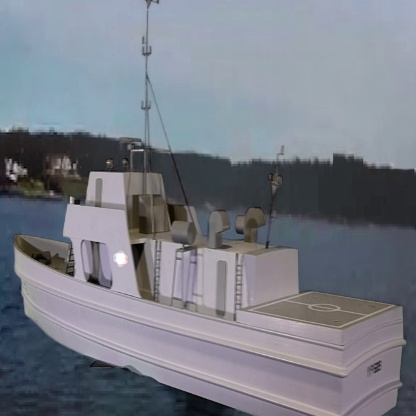YP689: (11, 0, 405, 416)
